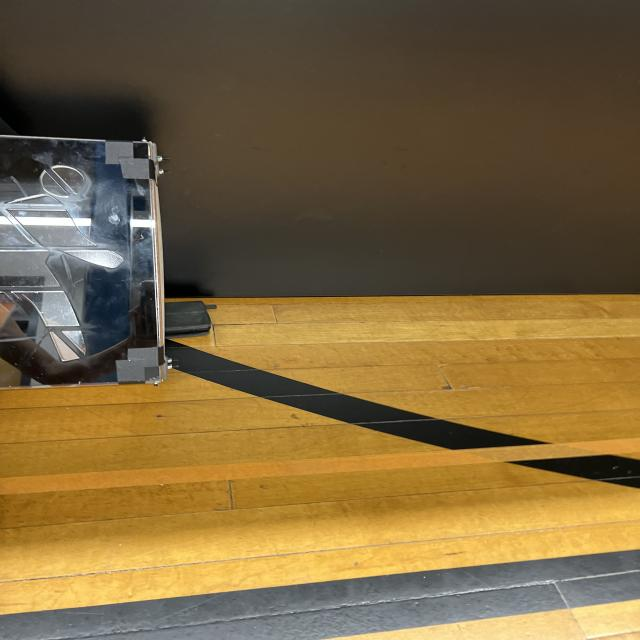go: (1, 138, 163, 381)
